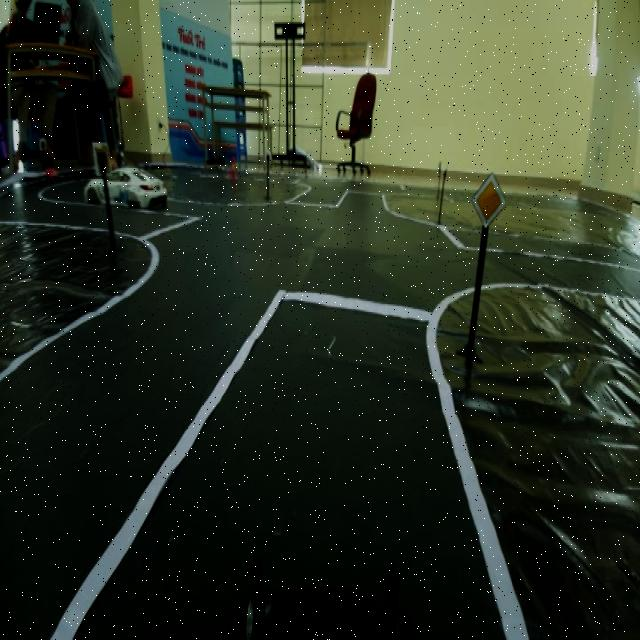priority: (464, 174, 514, 238)
